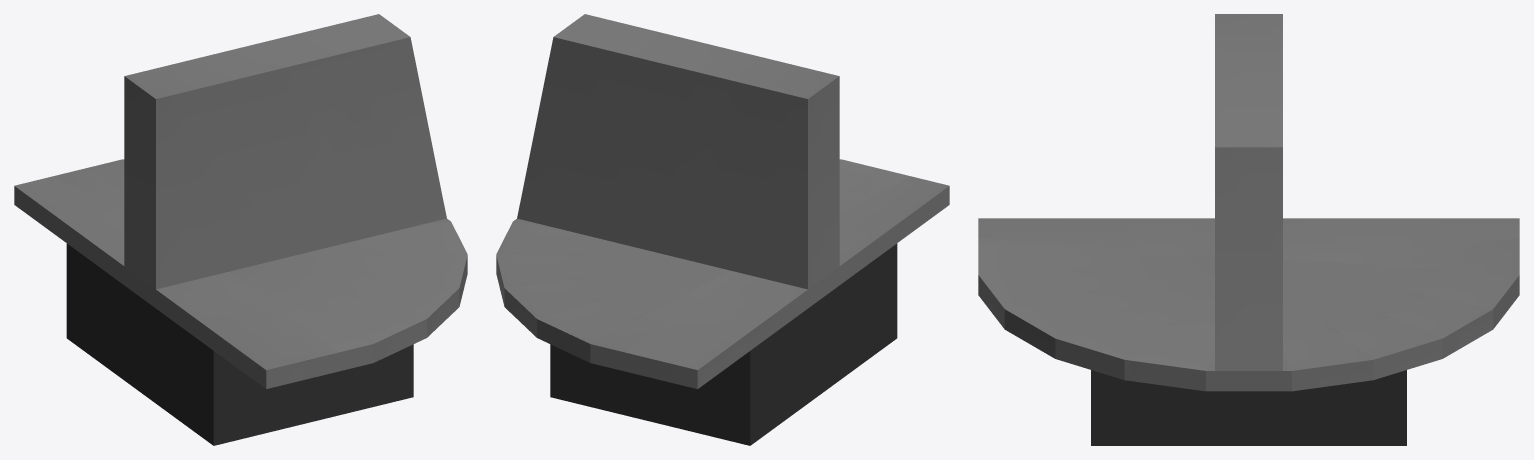
Rendered from dc_metro_bench_1.obj.
3 views of the same model, side by side, from view 1: azimuth 30°, elevation 25°; view 2: azimuth 150°, elevation 25°; view 3: azimuth 270°, elevation 25° (orthographic). The views are drawn at different scales.
Visible parts, largest first — view 1: cube, cylinder; view 2: cube, cylinder; view 3: cube, cylinder.
Part boxes in pixels (x1,y1,x2,y2): cube: [14, 14, 446, 445]; cylinder: [53, 159, 467, 379]; cube: [517, 14, 949, 445]; cylinder: [496, 159, 910, 379]; cube: [978, 14, 1519, 445]; cylinder: [978, 238, 1519, 391].
Bounding box in the file's own units: 1 × 1 × 1.5.
Materials: 2 (2 with a texture image).
